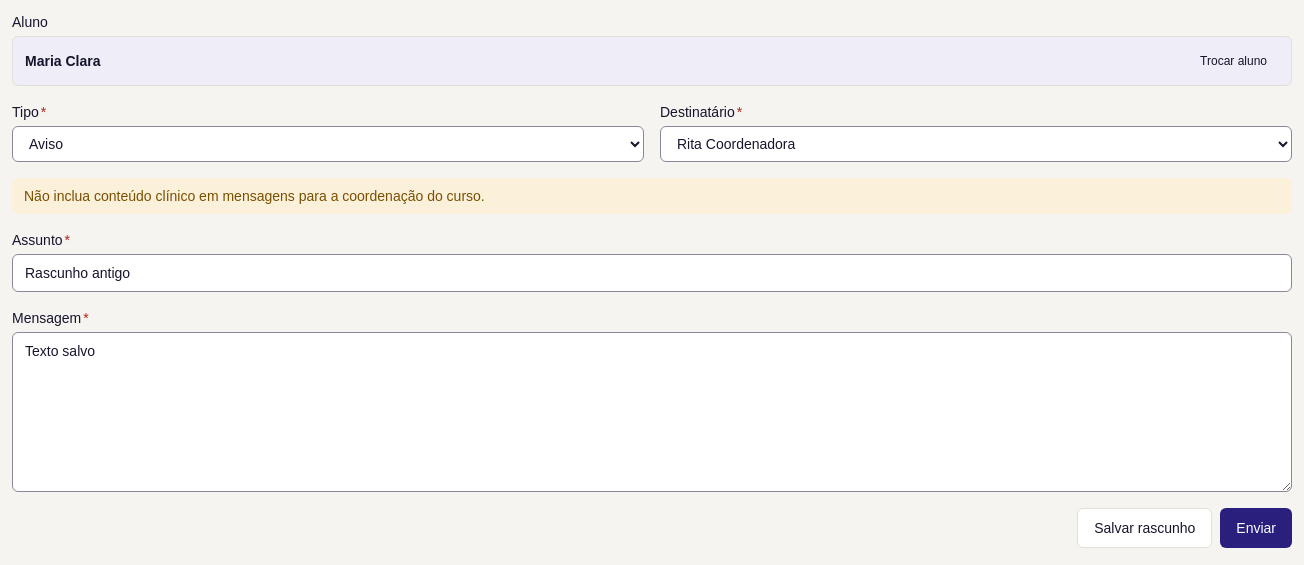
Scenario: EscreverMensagem › Trocar_o_aluno_limpa_destinatario_que_deixou_de_ser_elegivel
Expected: the dropdown labelled "Destinatário*" shows "Rita Coordenadora", [660,126,1292,162]
Click the button "Trocar aluno" at (1234, 61), box [1188,45,1279,77]
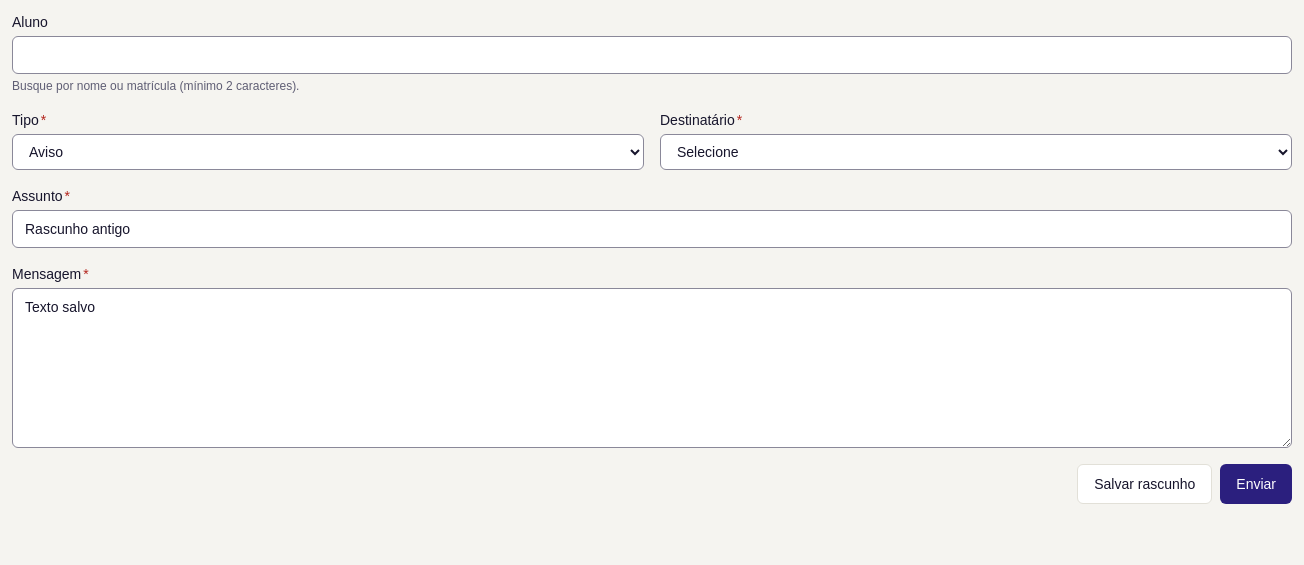
Expected: the dropdown labelled "Destinatário*" shows "Selecione", [660,134,1292,170]
Expected: the text "Não inclua conteúdo clínico em mensagens para a coordenação do curso." is gone
Click the button "Enviar" at (1256, 484), box [1220,464,1292,504]
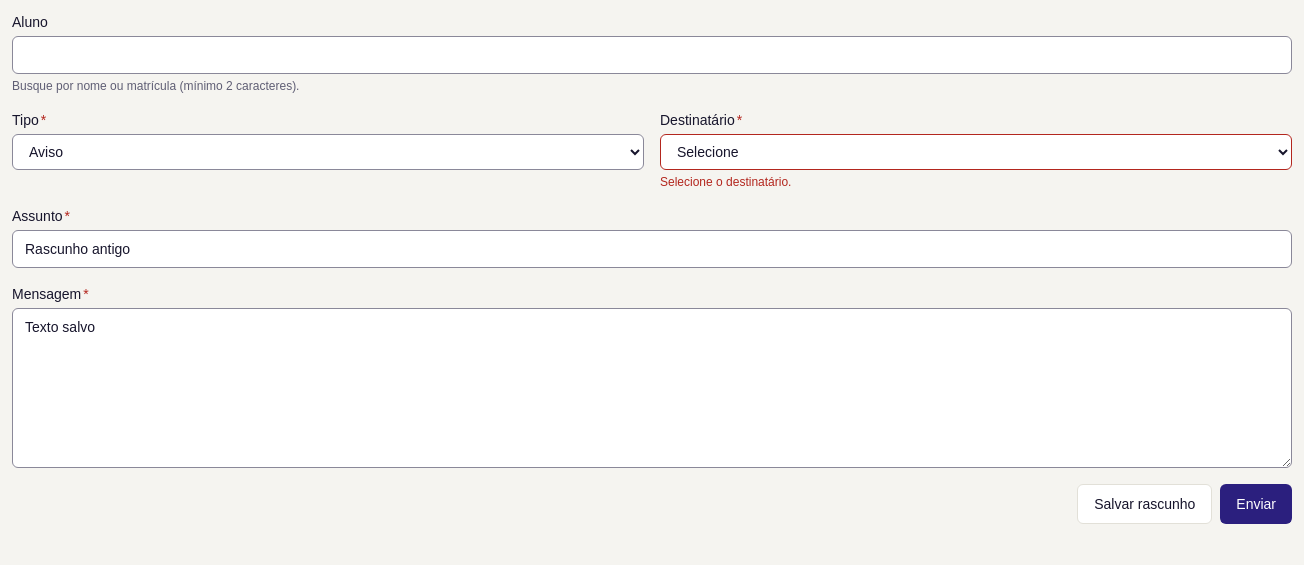
Expected: the text "Selecione o destinatário." is shown, [660,175,791,189]
